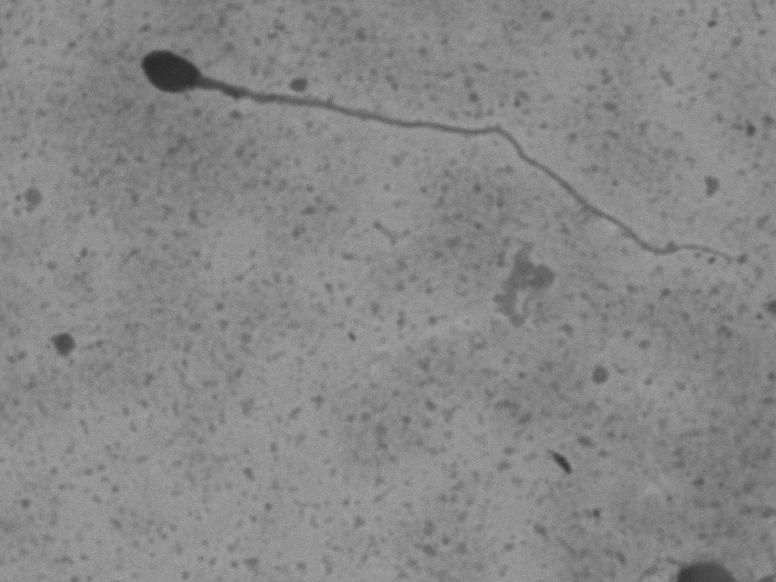Abnormal: (93, 16, 742, 296)
